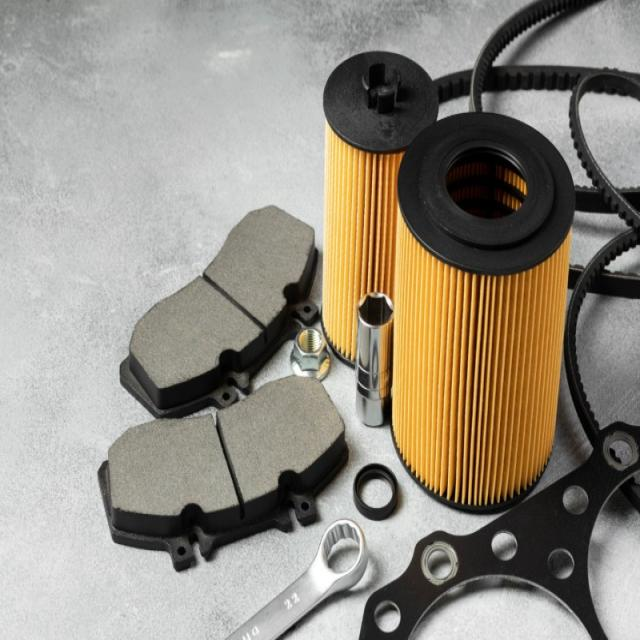brake_pad: (87, 374, 338, 567), (110, 194, 320, 397)
oil_filter: (396, 113, 578, 518), (319, 55, 432, 370)
